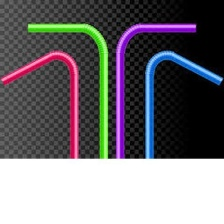drinking_straw: (109, 15, 199, 160), (25, 16, 112, 162), (138, 43, 224, 159), (0, 44, 83, 158)
